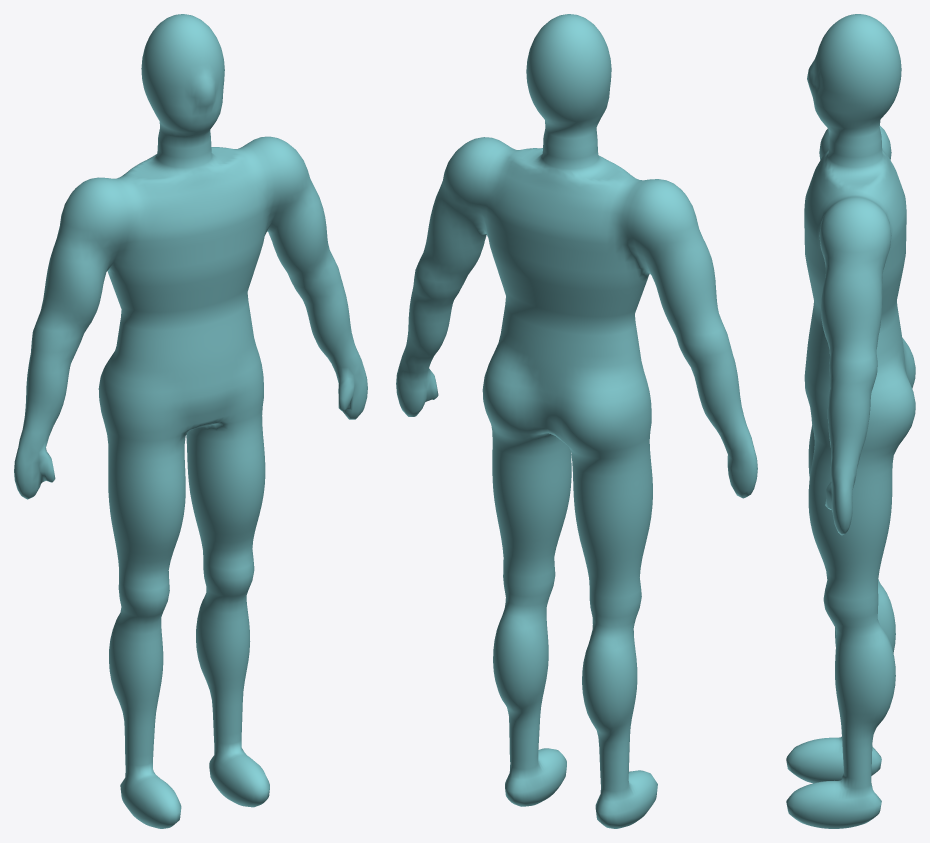
File: orbital-body.glb
3 renders of one model, left to right at view 1: azimuth 30°, elevation 25°; view 2: azimuth 150°, elevation 25°; view 3: azimuth 270°, elevation 25°, orthographic. The views are drawn at different scales.
Parts seen in each view (by area): view 1: chest, abdomen, right_thigh, pelvis, left_thigh, head, right_lower_leg, left_lower_leg, right_shoulder, neck, right_upper_arm, left_upper_arm (+9 smaller); view 2: back, right_thigh, pelvis, left_thigh, head, left_lower_leg, right_lower_leg, right_shoulder, neck, right_upper_arm, left_upper_arm, right_forearm (+10 smaller); view 3: head, left_thigh, left_lower_leg, left_shoulder, left_upper_arm, back, pelvis, neck, left_foot, left_forearm, chest, left_knee (+5 smaller).
Boxes of the visible parts, <box> form: chest: <box>106,142,281,303</box>; abdomen: <box>112,274,256,381</box>; right_thigh: <box>105,424,187,579</box>; pelvis: <box>98,347,263,441</box>; left_thigh: <box>186,408,265,559</box>; head: <box>141,14,224,134</box>; right_lower_leg: <box>109,608,163,775</box>; left_lower_leg: <box>196,587,250,753</box>; right_shoulder: <box>50,177,128,271</box>; neck: <box>121,121,250,193</box>; right_upper_arm: <box>31,253,111,352</box>; left_upper_arm: <box>272,202,341,288</box>; back: <box>472,151,650,395</box>; right_thigh: <box>559,433,652,587</box>; pelvis: <box>482,355,651,451</box>; left_thigh: <box>489,420,571,566</box>; head: <box>526,14,611,128</box>; left_lower_leg: <box>493,601,548,768</box>; right_lower_leg: <box>582,622,637,790</box>; right_shoulder: <box>627,179,711,272</box>; neck: <box>504,119,634,198</box>; right_upper_arm: <box>645,254,730,355</box>; left_upper_arm: <box>414,201,485,291</box>; right_forearm: <box>680,346,752,443</box>; head: <box>807,14,901,129</box>; left_thigh: <box>808,434,905,589</box>; left_lower_leg: <box>835,622,895,787</box>; left_shoulder: <box>819,197,891,296</box>; left_upper_arm: <box>821,278,882,383</box>; back: <box>866,138,906,393</box>; pelvis: <box>804,340,915,450</box>; neck: <box>817,119,892,200</box>; left_foot: <box>786,773,881,828</box>; left_forearm: <box>827,375,876,483</box>; chest: <box>804,138,868,300</box>; left_knee: <box>823,574,879,636</box>.
Bounding box in the file's own units: 0.8577 × 1.83 × 0.2724.
